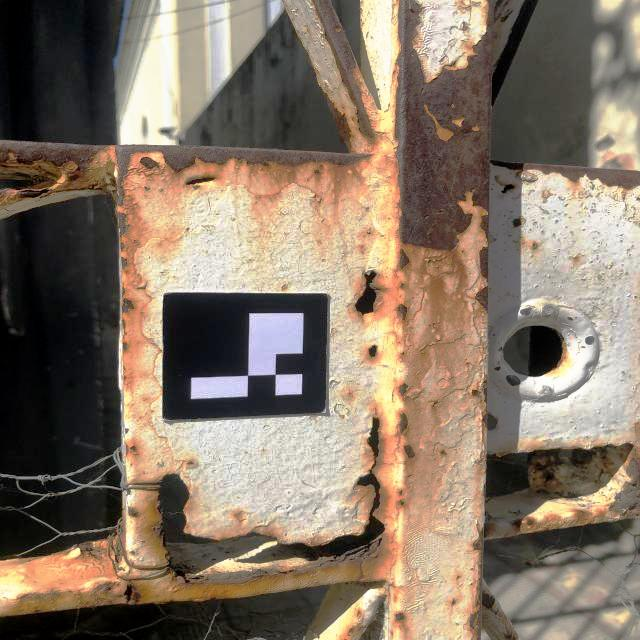Corrosion: (0, 0, 381, 392), (384, 0, 640, 324), (168, 413, 392, 588), (510, 442, 640, 535), (126, 491, 172, 569), (468, 524, 497, 640), (352, 267, 389, 320), (18, 590, 61, 614), (66, 589, 117, 608), (125, 581, 148, 607), (552, 340, 570, 371), (394, 410, 413, 437), (76, 542, 110, 557), (93, 582, 121, 598), (402, 442, 419, 460), (535, 464, 553, 481), (481, 379, 487, 429), (342, 625, 362, 639), (396, 488, 407, 507), (488, 413, 499, 430), (366, 345, 379, 359), (127, 442, 140, 456), (485, 593, 496, 609), (500, 183, 517, 193), (397, 382, 409, 396), (395, 612, 407, 625), (512, 218, 522, 227), (439, 450, 450, 457), (471, 389, 479, 398), (185, 460, 195, 466), (356, 610, 363, 616), (531, 241, 537, 247), (367, 231, 372, 235)
